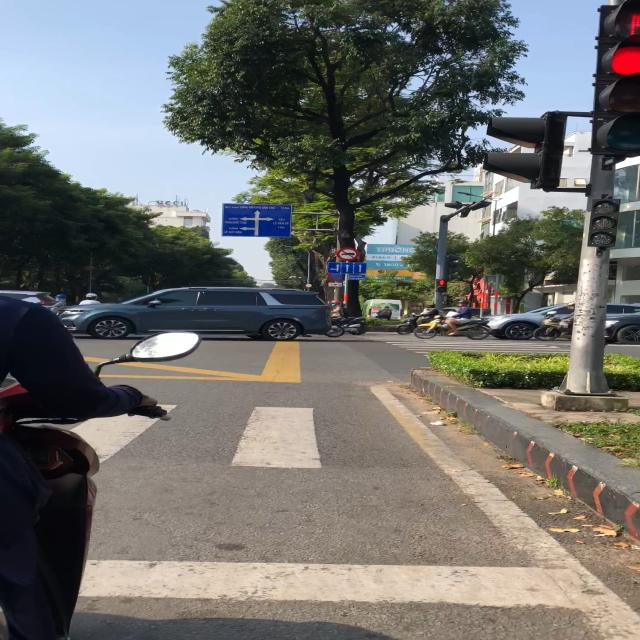Bien bao cam xe so-mi ro-mooc: (335, 246, 361, 261)
